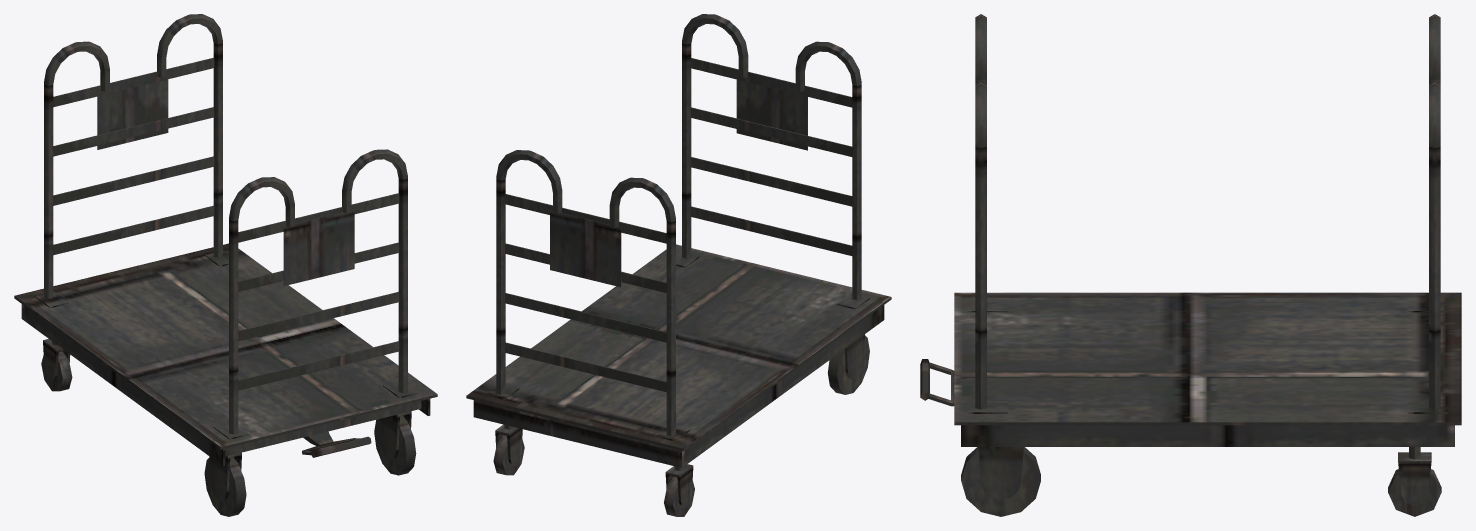
The model's file is CosaRara.fbx.
3 views of the same model, side by side, from view 1: azimuth 30°, elevation 25°; view 2: azimuth 150°, elevation 25°; view 3: azimuth 270°, elevation 25° (orthographic). The views are drawn at different scales.
Visible parts, largest first — view 1: CosaRara.001; view 2: CosaRara.001; view 3: CosaRara.001.
Part boxes in pixels (box(x1,y1,x2,y2)): CosaRara.001: box(14, 14, 437, 516); CosaRara.001: box(466, 14, 891, 516); CosaRara.001: box(920, 14, 1461, 516).
Size of the model in its own units: 0.9383 by 1.39 by 1.65.
1 material, 1 textured.
